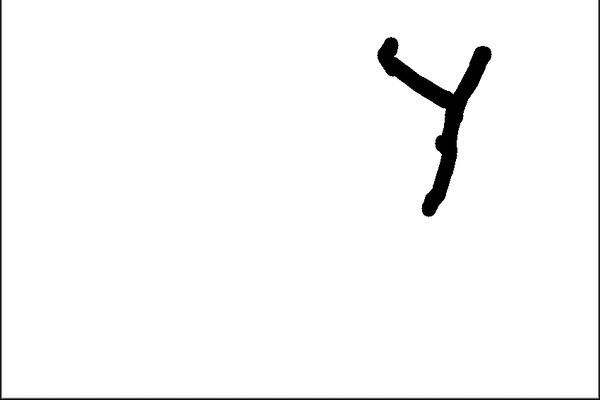Y: (366, 34, 498, 221)
